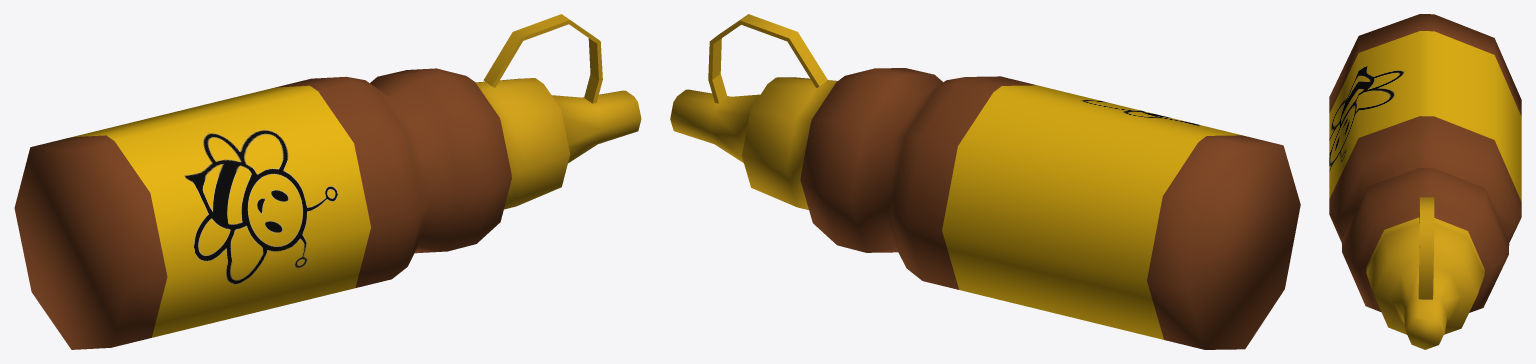
The model's file is mel.fbx.
3 views of the same model, side by side, from view 1: azimuth 30°, elevation 25°; view 2: azimuth 150°, elevation 25°; view 3: azimuth 270°, elevation 25° (orthographic). The views are drawn at different scales.
Visible parts, largest first — view 1: Circle.005; view 2: Circle.005; view 3: Circle.005.
Part boxes in pixels (box(x1,y1,x2,y2)): Circle.005: box(14, 14, 641, 349); Circle.005: box(670, 14, 1300, 349); Circle.005: box(1329, 14, 1521, 349).
Bounding box in the file's own units: 73.04 × 26.28 × 25.39.
Materials: 1 (1 with a texture image).
